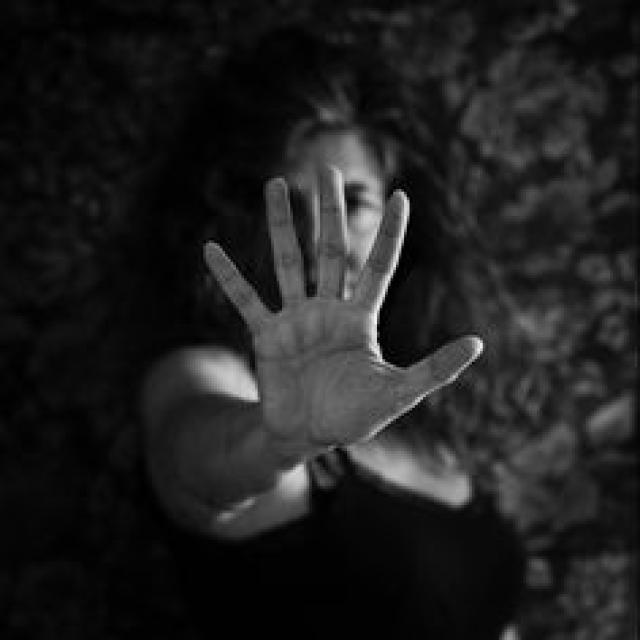7_mano_rostro: (232, 172, 410, 479)
